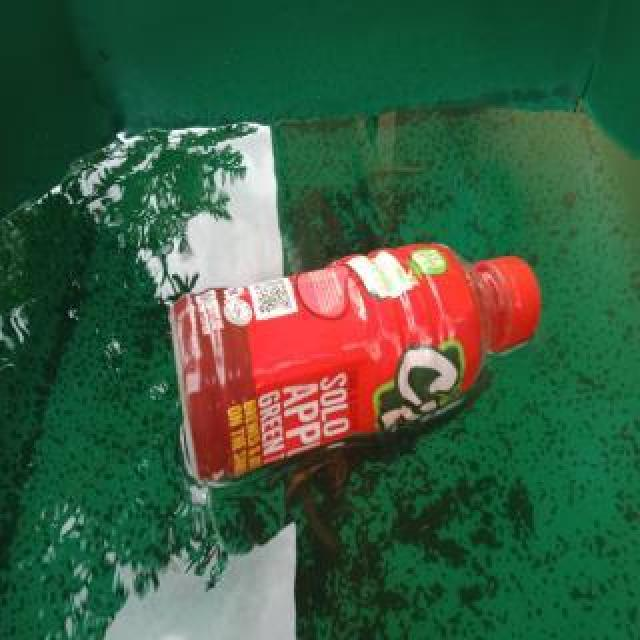bottle: (165, 239, 545, 487)
